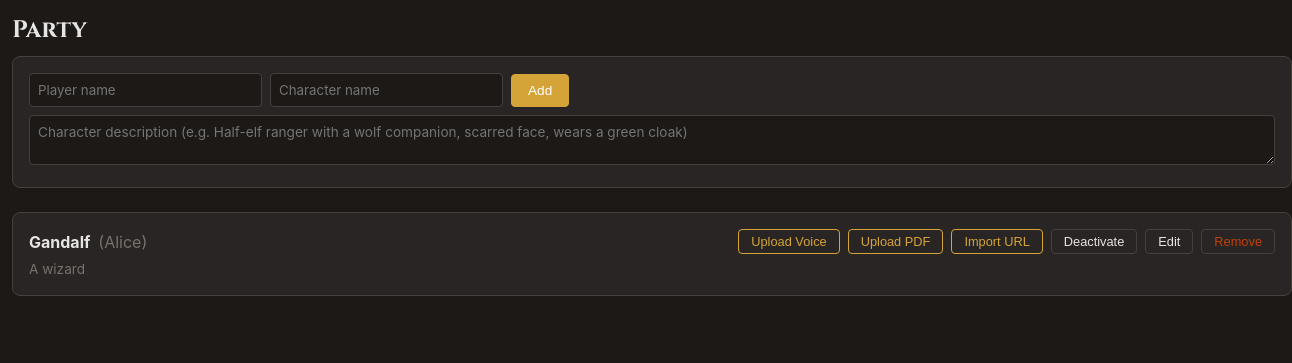
Scenario: RosterPage › shows edit form when Edit is clicked
What coordinates should you click on to do the following:
click the button "Edit"
I would click on:
 (1169, 242)
Its box is [1145,229,1193,254].
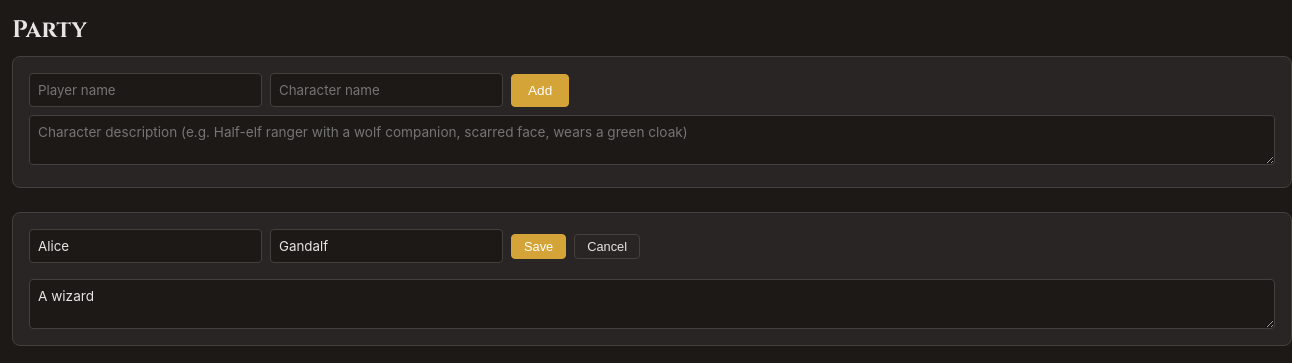
Expected: the button "Save" is shown, [511,234,566,258]
Expected: the button "Cancel" is shown, [574,234,640,258]
